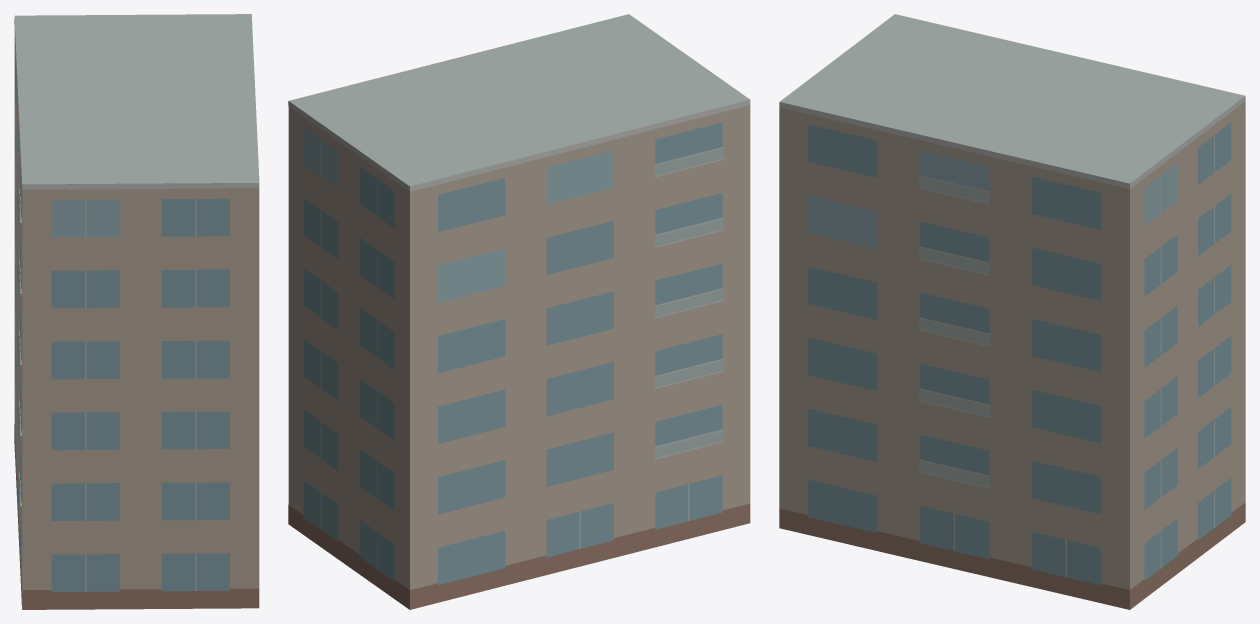
File: survey-upis-32870622.glb
The picture shows the model from 3 angles, left to right: view 1: azimuth 30°, elevation 25°; view 2: azimuth 150°, elevation 25°; view 3: azimuth 270°, elevation 25°; orthographic projection.
Parts seen in each view (by area): view 1: survey-upis-32870622.tmp; view 2: survey-upis-32870622.tmp; view 3: survey-upis-32870622.tmp.
Boxes of the visible parts, x1,y1,x2,y2 form: survey-upis-32870622.tmp: (14, 14, 259, 609); survey-upis-32870622.tmp: (288, 14, 750, 609); survey-upis-32870622.tmp: (779, 14, 1245, 609).
Size of the model in its own units: 16.35 by 19.15 by 18.98.
